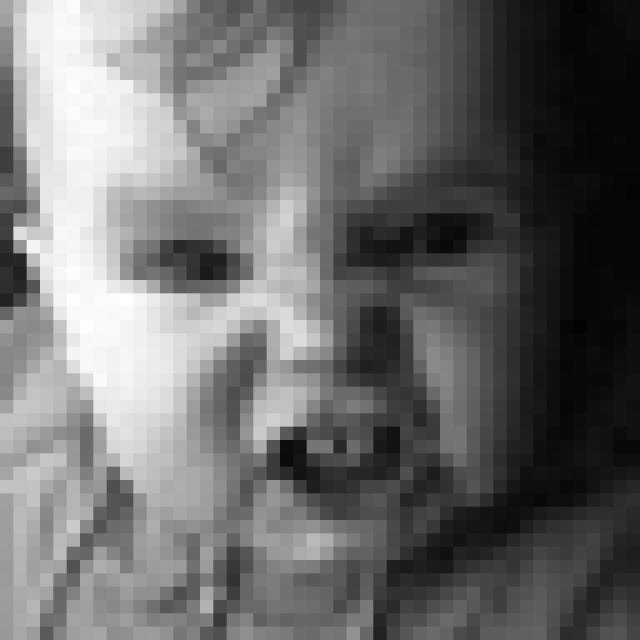angry: (99, 165, 530, 534)
